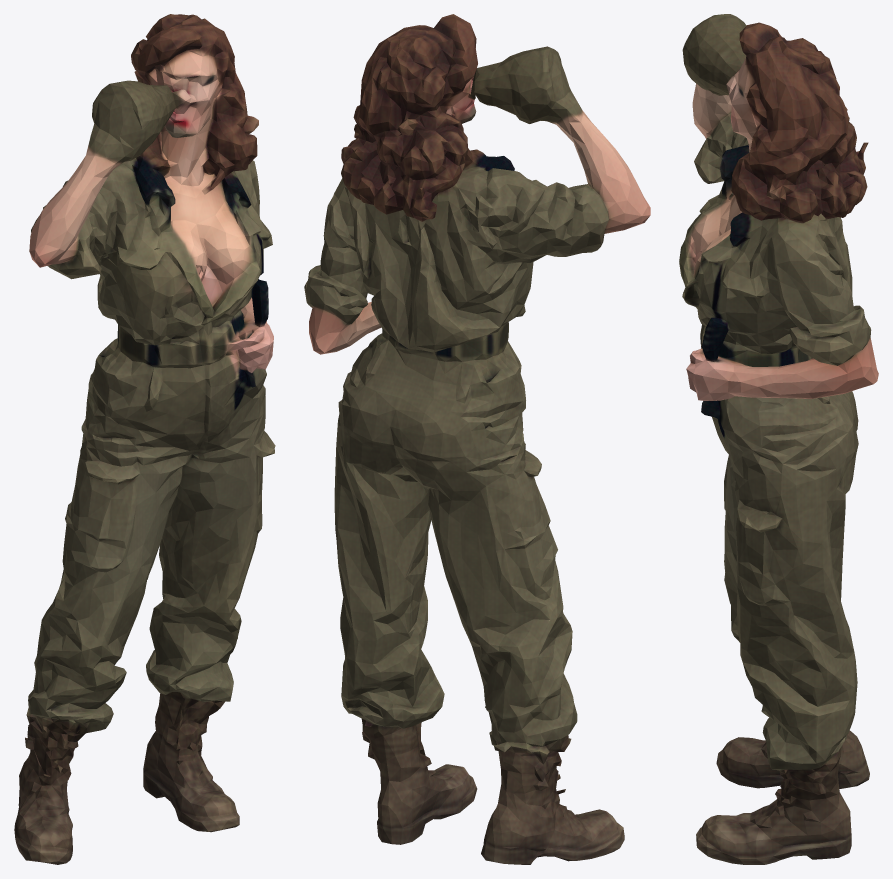
The model's file is crew_us_radio_4_idle.obj.
3 views of the same model, side by side, from view 1: azimuth 30°, elevation 25°; view 2: azimuth 150°, elevation 25°; view 3: azimuth 270°, elevation 25° (orthographic). The views are drawn at different scales.
Parts seen in each view (by area): view 1: crew_us_radio_4_idle; view 2: crew_us_radio_4_idle; view 3: crew_us_radio_4_idle.
Boxes of the visible parts, x1,y1,x2,y2 form: crew_us_radio_4_idle: (14,14,275,864); crew_us_radio_4_idle: (304,14,650,864); crew_us_radio_4_idle: (679,14,878,864).
Bounding box in the file's own units: 0.6334 × 1.72 × 0.381.
Materials: 1 (1 with a texture image).
